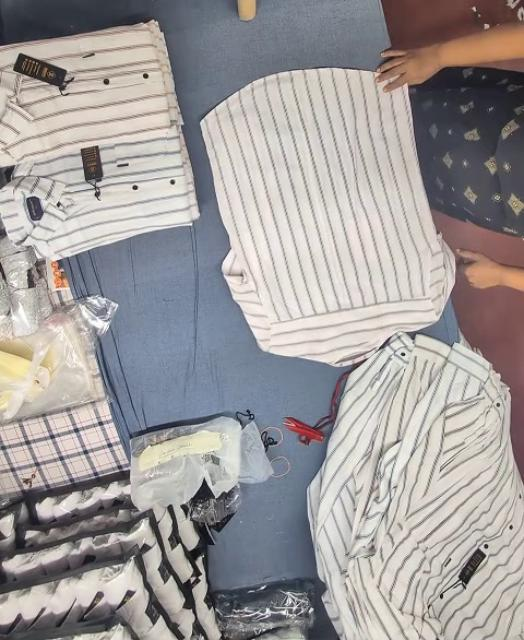new-garment: (201, 69, 453, 365)
